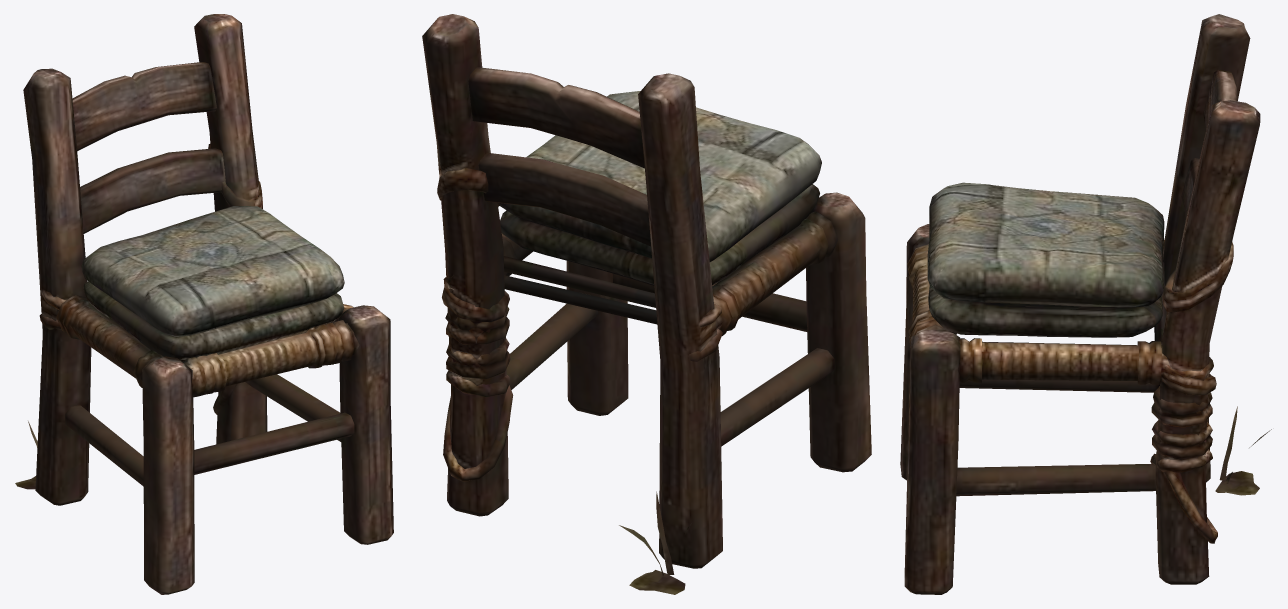
Rendered from act1-a21-4-vigil-chair.glb.
The picture shows the model from 3 angles, left to right: view 1: azimuth 30°, elevation 25°; view 2: azimuth 150°, elevation 25°; view 3: azimuth 270°, elevation 25°; orthographic projection. The views are drawn at different scales.
Parts seen in each view (by area): view 1: act1-a21-4-vigil-chair; view 2: act1-a21-4-vigil-chair; view 3: act1-a21-4-vigil-chair.
Boxes of the visible parts, bbox=[...] form: act1-a21-4-vigil-chair: bbox=[15, 14, 393, 594]; act1-a21-4-vigil-chair: bbox=[422, 14, 871, 594]; act1-a21-4-vigil-chair: bbox=[900, 14, 1271, 594].
Size of the model in its own units: 0.6 by 1.03 by 0.73.
Materials: 1 (1 with a texture image).
